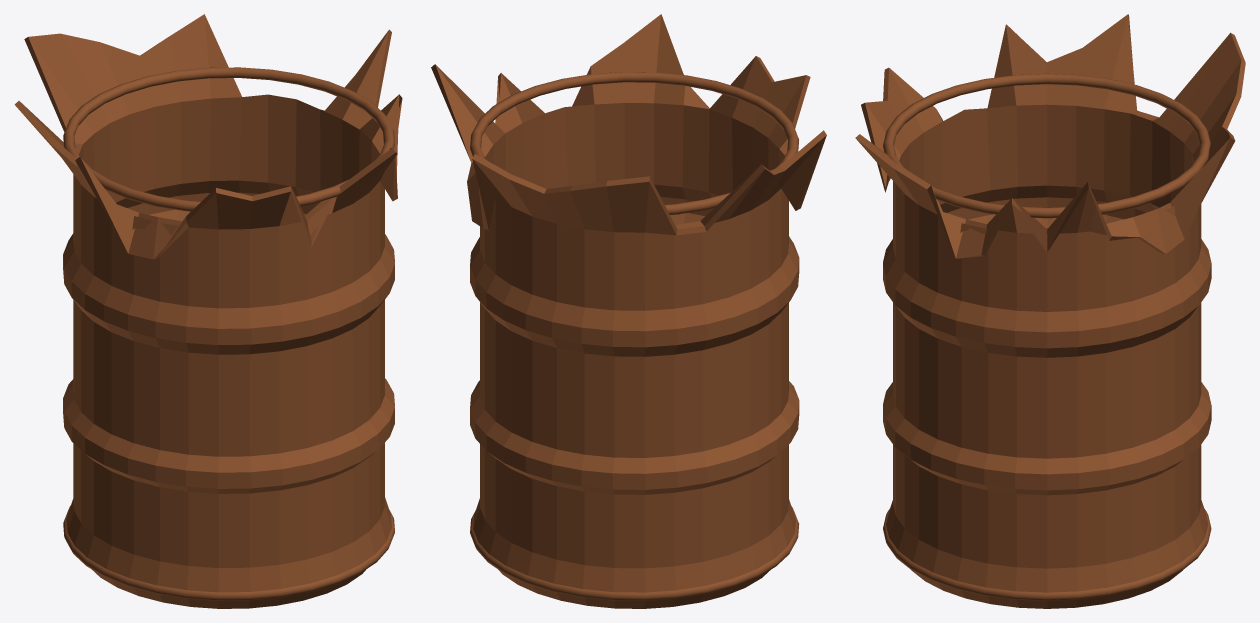
The model's file is SM_Drum_Burst.fbx.
3 views of the same model, side by side, from view 1: azimuth 30°, elevation 25°; view 2: azimuth 150°, elevation 25°; view 3: azimuth 270°, elevation 25° (orthographic).
Parts seen in each view (by area): view 1: SM_Drum_Burst; view 2: SM_Drum_Burst; view 3: SM_Drum_Burst.
Part boxes in pixels (left/top/right/bottom): SM_Drum_Burst: left=14, top=14, right=402, bottom=608; SM_Drum_Burst: left=431, top=14, right=826, bottom=608; SM_Drum_Burst: left=855, top=14, right=1245, bottom=608.
Size of what is drawn, in the model's own units: 0.8078 by 0.7725 by 1.01.
